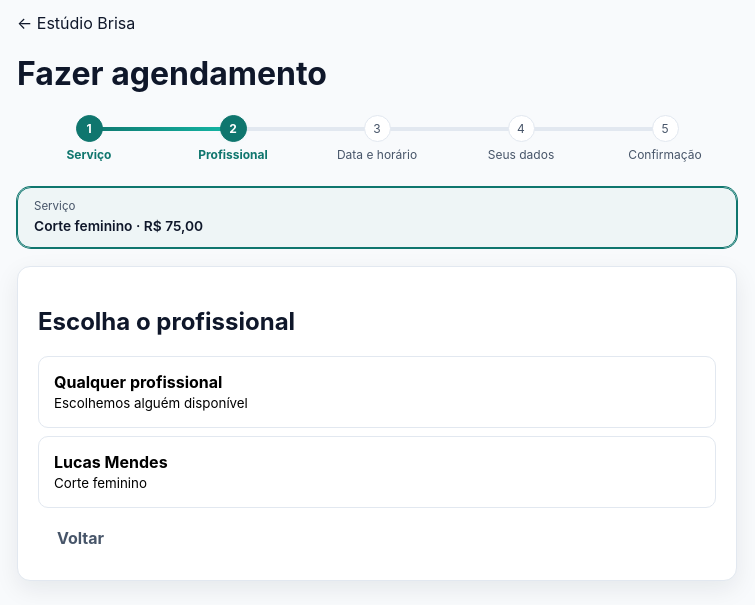
it: agendamento de um estabelecimento real › permite tentar novamente quando a busca de horários falha
This screenshot has width=755, height=605.
Expected: the heading "Escolha o profissional" is shown, x1=38 y1=307 x2=295 y2=336
What coordinates should you click on to do the following:
click the button "Lucas Mendes"
I would click on:
 (111, 462)
Its box is x1=38 y1=436 x2=716 y2=508.
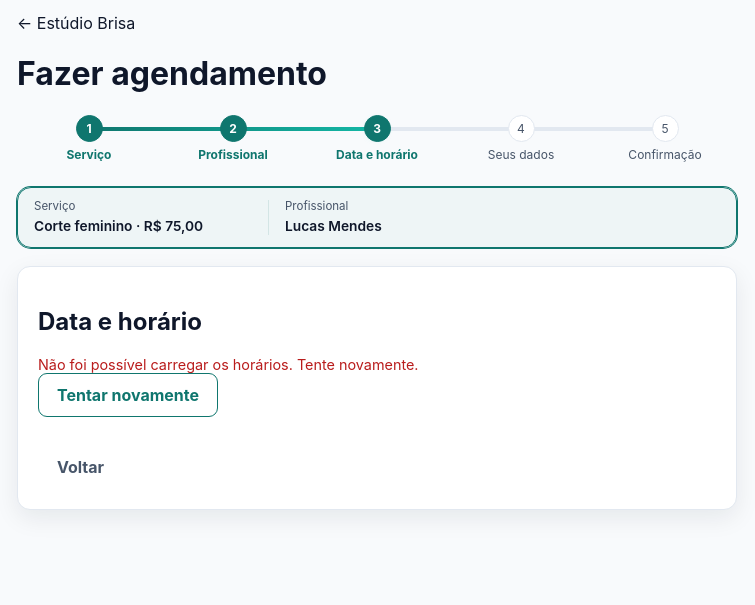
Result: the message reads "Não foi possível carregar os horários. Tente novamente." at x1=38 y1=356 x2=418 y2=373
What coordinates should you click on to do the following:
click the button "Tentar novamente"
I would click on:
 (128, 395)
Its box is x1=38 y1=373 x2=218 y2=417.
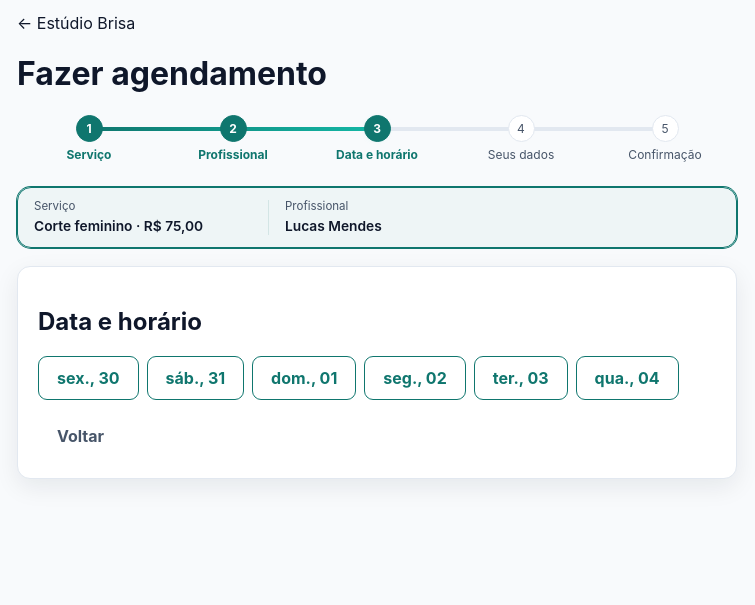
What coordinates should you click on to do the following:
click the button "sex., 30"
I would click on:
 (88, 378)
Its box is x1=38 y1=356 x2=139 y2=400.
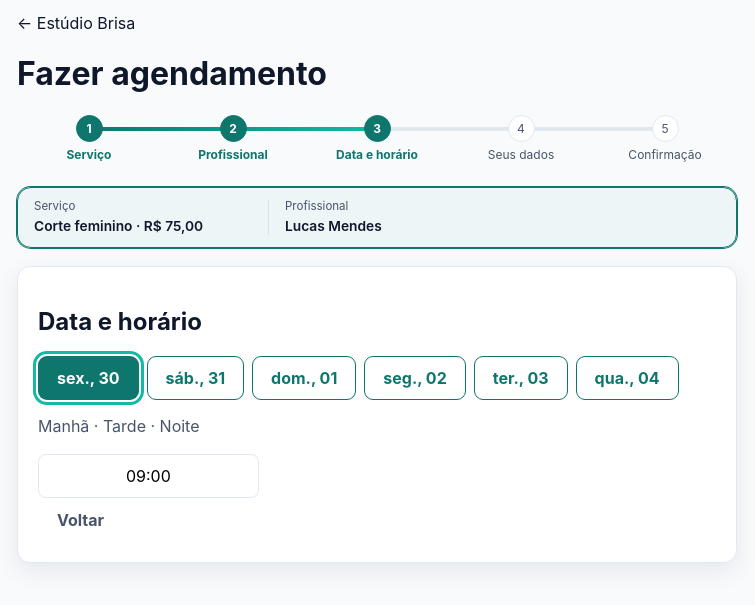
Result: the button "09:00" is shown at x1=38 y1=454 x2=259 y2=498
